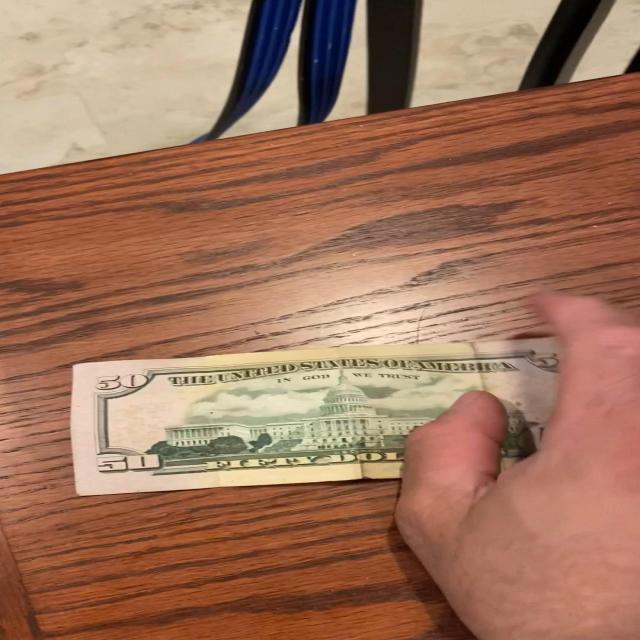50-Back: (66, 333, 605, 501)
